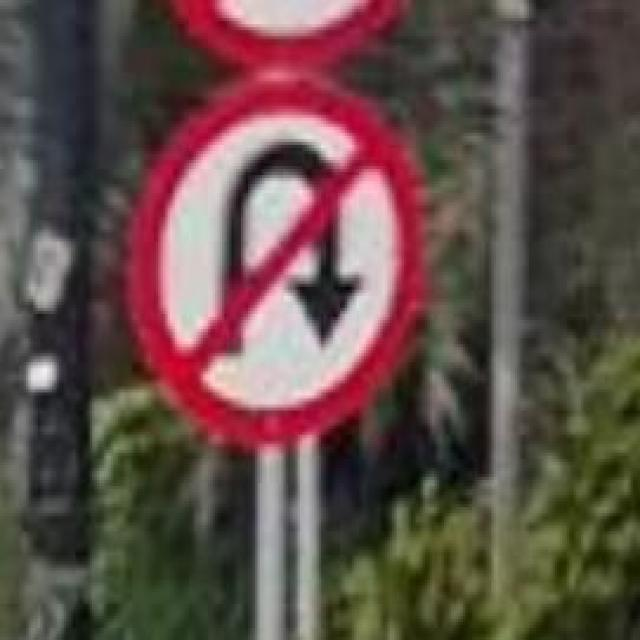traffic sign: (132, 79, 418, 438)
